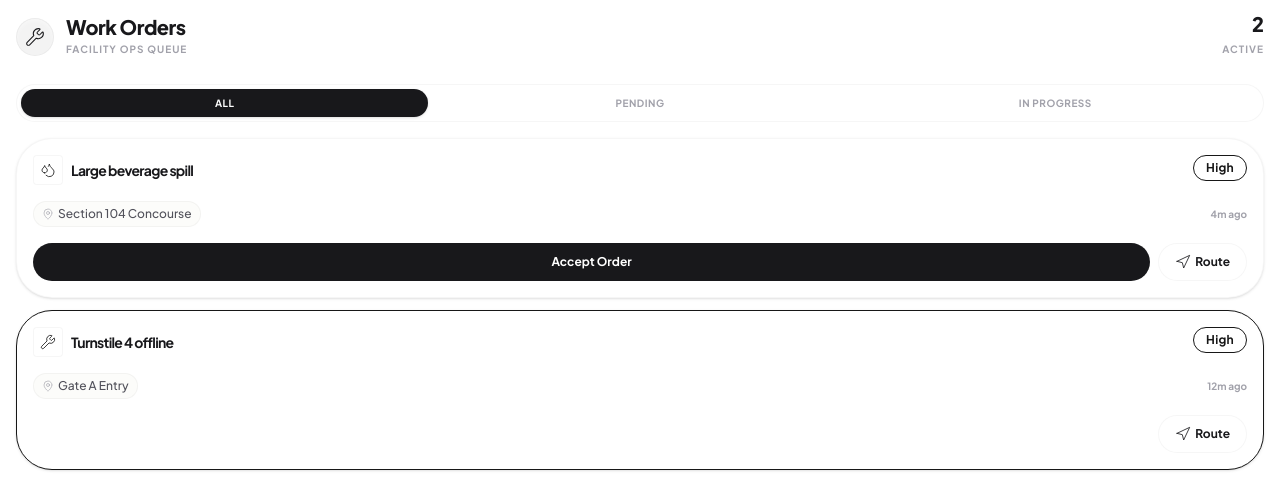
StaffTasks › filters to pending tasks only
Click the button "Pending" at (640, 103), box [436, 89, 844, 117]
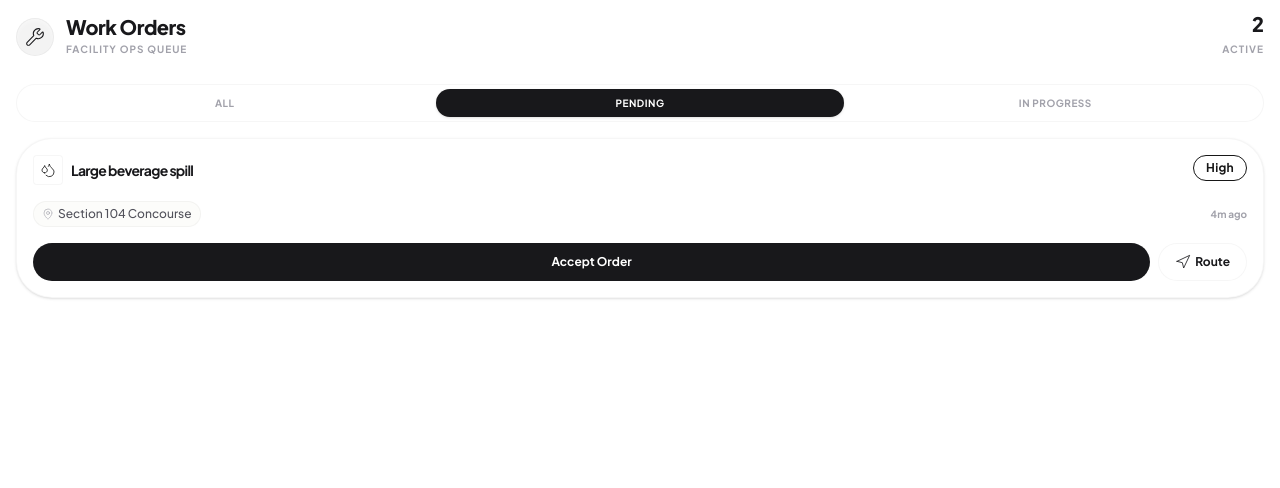
Expected: the heading "Large beverage spill" is shown, [71, 160, 193, 180]
Now the heading "Turnstile 4 offline" is gone
